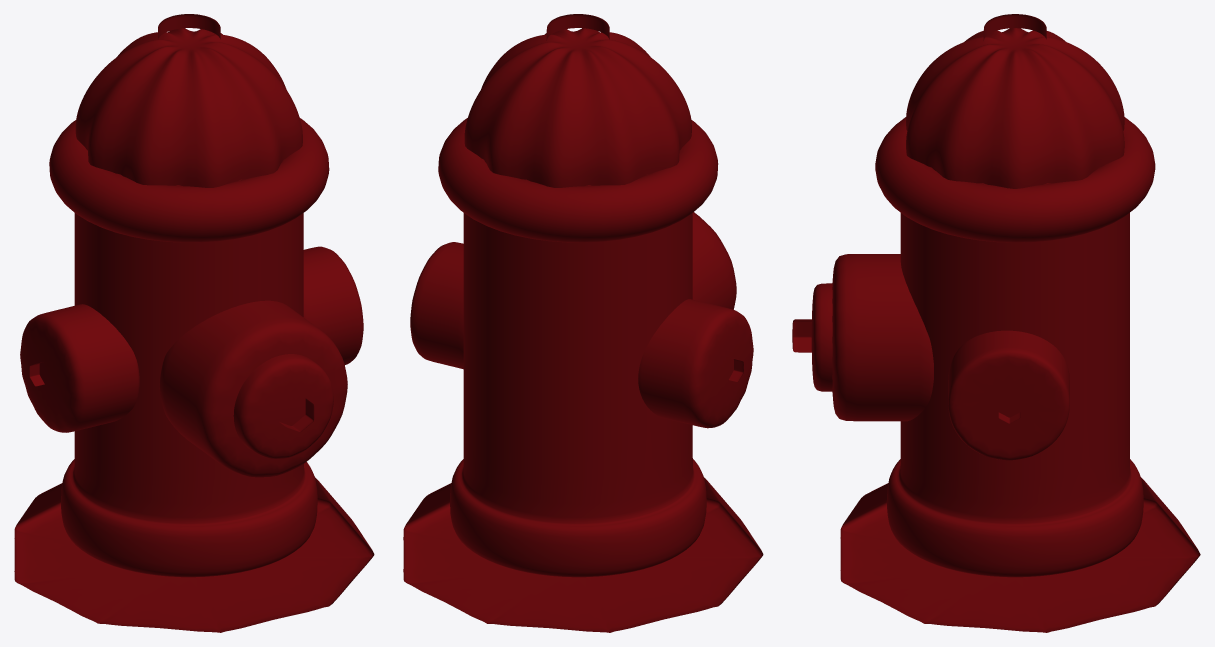
Rendered from bocaIncendios.fbx.
3 views of the same model, side by side, from view 1: azimuth 30°, elevation 25°; view 2: azimuth 150°, elevation 25°; view 3: azimuth 270°, elevation 25° (orthographic).
Visible parts, largest first — view 1: BocaIncendios; view 2: BocaIncendios; view 3: BocaIncendios.
Part boxes in pixels (box(x1,y1,x2,y2)): BocaIncendios: box(14, 14, 374, 632); BocaIncendios: box(403, 14, 763, 632); BocaIncendios: box(792, 14, 1200, 632).
Size of the model in its own units: 192 by 311 by 215.
